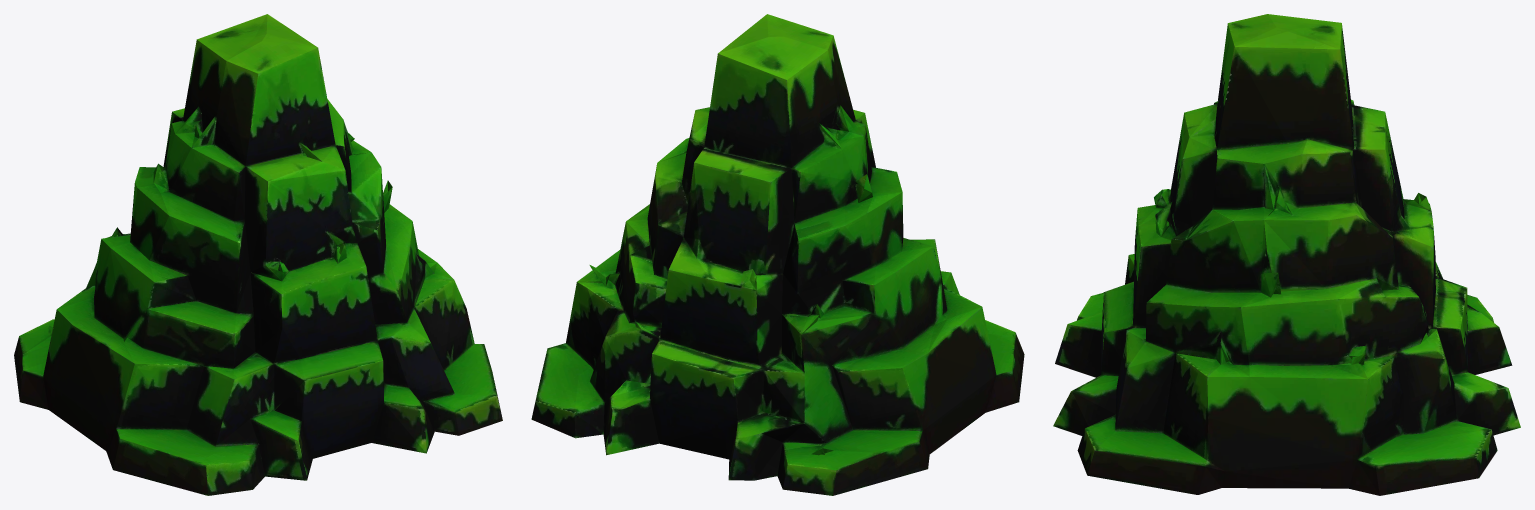
Rendered from mossy_stone_tower.glb.
3 renders of one model, left to right at view 1: azimuth 30°, elevation 25°; view 2: azimuth 150°, elevation 25°; view 3: azimuth 270°, elevation 25°, orthographic. The views are drawn at different scales.
Bounding box in the file's own units: 1.99 × 1.73 × 1.97.
Materials: 1 (1 with a texture image).
